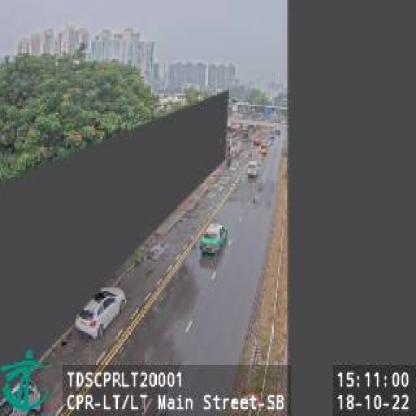Car: (74, 286, 127, 340), (201, 220, 229, 257), (246, 160, 260, 178)
